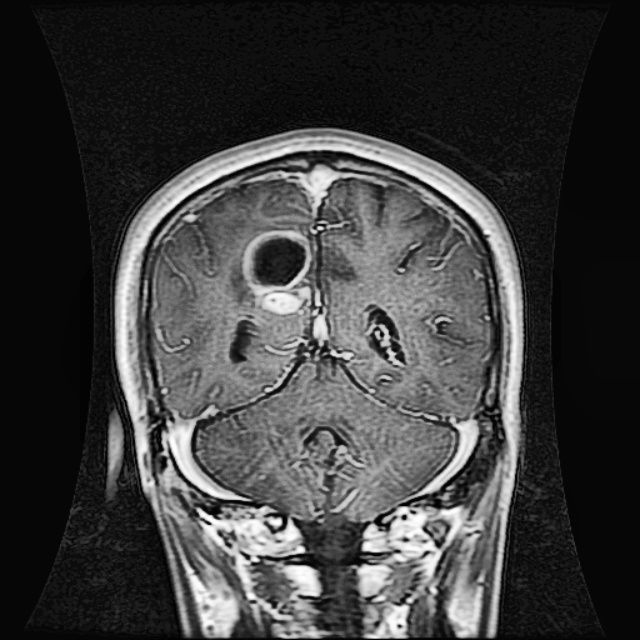Meningioma: (238, 224, 322, 313)
